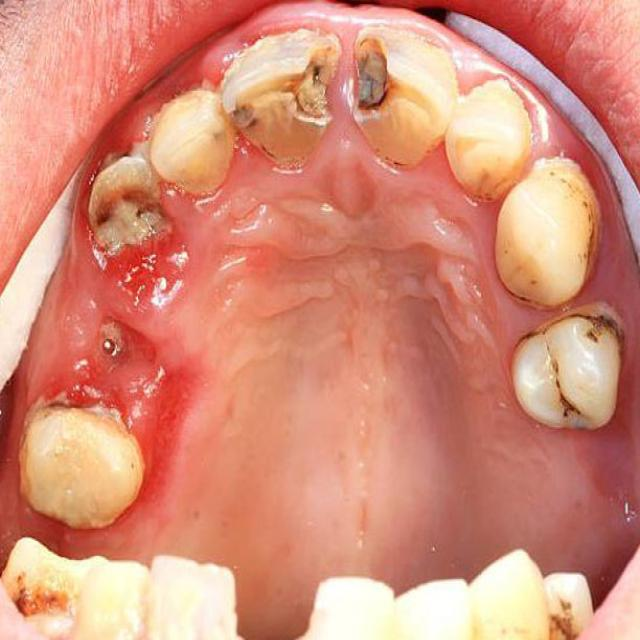caries: (88, 150, 170, 247), (0, 564, 79, 640), (289, 42, 340, 128), (343, 27, 394, 110), (226, 82, 280, 156), (537, 580, 591, 640), (548, 352, 584, 426), (582, 303, 627, 356)
